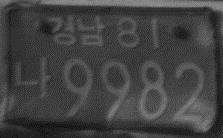1: (147, 17, 165, 50)
2: (172, 61, 206, 123)
8: (137, 59, 169, 122), (115, 16, 142, 49)
9: (99, 57, 132, 123), (61, 57, 95, 119)
경남_O: (46, 14, 106, 47)
나: (12, 54, 51, 101)
